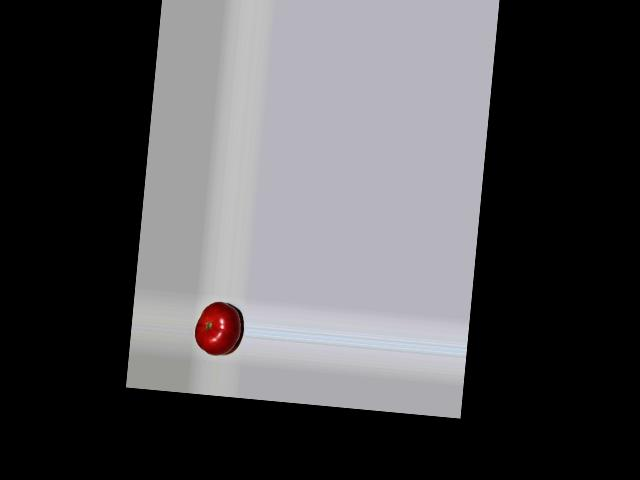tomato: (192, 299, 242, 358)
